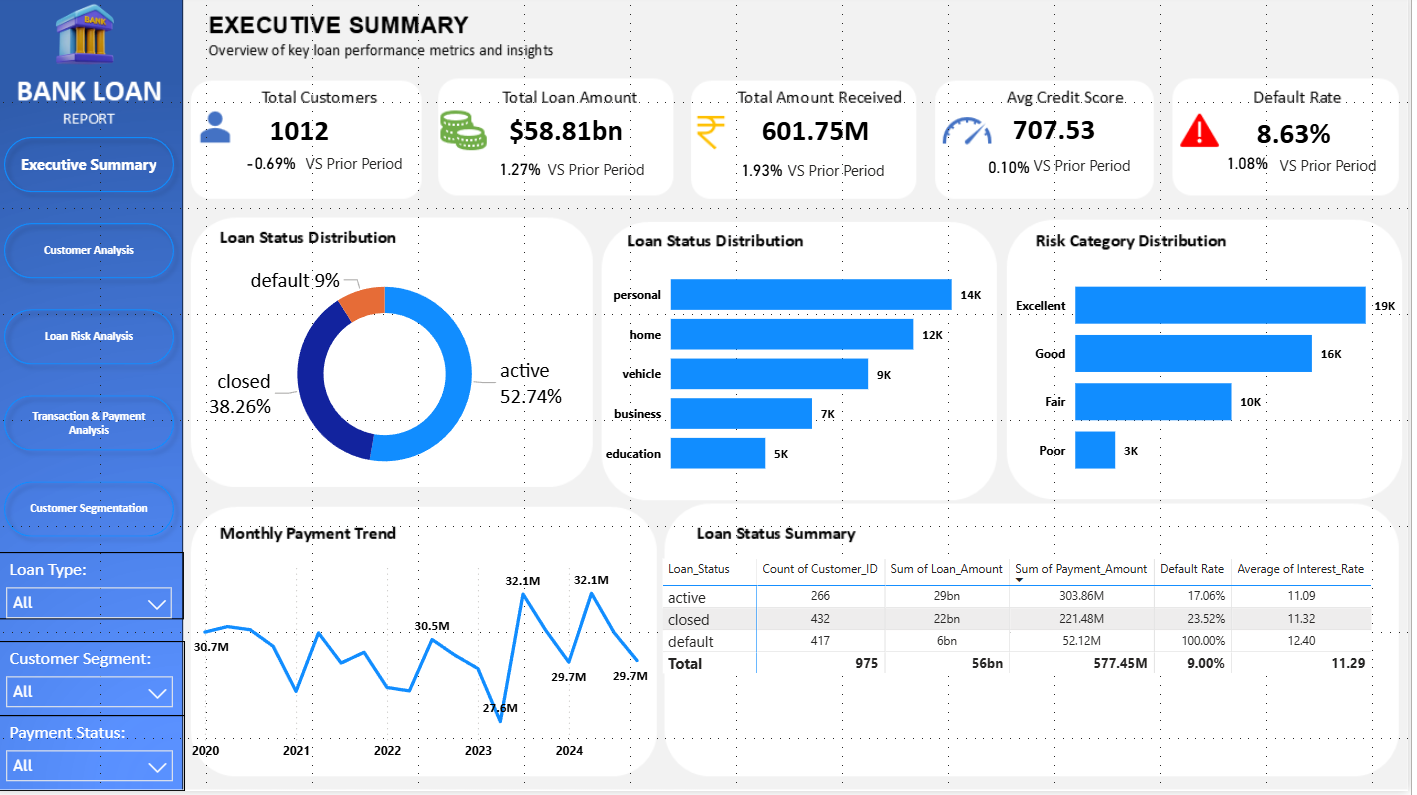

The page's visual inventory and layout, read from the dashboard file:
{"tool":"powerbi","page":{"name":"Executive Summary","canvas":[1280,720],"ordinal":0},"visuals":[{"type":"donutChart","fields":{"Category":["Sheet1.Loan_Status"],"Y":["CountNonNull(Sheet1.Loan_ID)"]},"box":[173.8,232.4,359.7,219.3],"z":0},{"type":"barChart","fields":{"Category":["Final Datasets.Loan_Type"],"Y":["CountNonNull(Final Datasets.Loan_ID)"]},"box":[547.9,229.1,359.5,219.2],"z":1000},{"type":"barChart","fields":{"Category":["Sheet1.Risk_Category"],"Y":["CountNonNull(Sheet1.Customer_ID)"]},"box":[919.2,232.8,361.4,219.2],"z":2000},{"type":"lineChart","fields":{"Y":["Sum(Final Datasets.Payment_Amount)"],"Category":["Date Table.Date.Variation.Date Hierarchy.Year","Date Table.Date.Variation.Date Hierarchy.Quarter"]},"box":[172.8,503.2,427.5,198.1],"z":3000},{"type":"card","title":"Total Customers","fields":{"Values":["Count(Sheet1.Customer_ID)"]},"box":[199.1,94,154.6,53.6],"z":4000},{"type":"card","title":"Total Loan Amount","fields":{"Values":["Sum(Sheet1.Loan_Amount)"]},"box":[420.4,103.1,196,36.4],"z":5000},{"type":"card","title":"Total Amount Received","fields":{"Values":["Sum(Sheet1.Payment_Amount)"]},"box":[654.8,103.1,178.9,35.4],"z":6000},{"type":"card","title":"Avg Credit Score","fields":{"Values":["Avg(Sheet1.Credit_Score)"]},"box":[868,98,184.9,45.5],"z":7000},{"type":"card","title":"Default Rate","fields":{"Values":["Sheet1.Default Rate"]},"box":[1074.2,100,206.1,47.5],"z":8000},{"type":"pivotTable","fields":{"Rows":["Final Datasets.Loan_Status"],"Values":["Count(Final Datasets.Customer_ID)","Sum(Final Datasets.Loan_Amount)","Sum(Final Datasets.Payment_Amount)","Final Datasets.Default Rate","Avg(Final Datasets.Interest_Rate)"]},"box":[600.5,504.5,671.1,197.4],"z":9000},{"type":"pageNavigator","box":[0,118.6,173,384.9],"z":10000},{"type":"image","box":[6.3,0,152.2,68.8],"z":11000},{"type":"slicer","fields":{"Values":["Final Datasets.Loan_Type"]},"box":[0,503.7,172.4,60.9],"z":12000},{"type":"slicer","fields":{"Values":["Final Datasets.Customer_Segment"]},"box":[0,584.2,173,67.9],"z":13000},{"type":"slicer","fields":{"Values":["Final Datasets.Customer_Segment"]},"box":[0,651.2,173,68.8],"z":14000},{"type":"card","fields":{"Values":["Final Datasets.Customer Growth %"]},"box":[177.4,137.7,146.1,30.3],"z":15000},{"type":"textbox","box":[276.9,137.4,119.2,30.3],"z":16000},{"type":"card","fields":{"Values":["Final Datasets.Loan Amount Growth %"]},"box":[433.5,143.5,84.9,30.3],"z":17000},{"type":"textbox","box":[496.2,143.5,120.3,30.3],"z":18000},{"type":"card","fields":{"Values":["Final Datasets.Payment Amount Growth %"]},"box":[662.6,144,64.7,30.3],"z":19000},{"type":"textbox","box":[713.7,144,120,30.3],"z":20000},{"type":"card","fields":{"Values":["Final Datasets.Avg Crdit Score Growth %"]},"box":[893.2,140.9,52.2,24],"z":21000},{"type":"textbox","box":[936,139.8,105.4,30.3],"z":22000},{"type":"card","fields":{"Values":["Final Datasets.Default Rate Growth %"]},"box":[1110.3,139.8,49,27.1],"z":23000},{"type":"textbox","box":[1159.3,139.8,105.4,30.3],"z":24000}]}

Visuals, with their boxes in screenshot pixels (x1, y1, x2, y2), scaled from the page's 1280x720 canvas onto the 1417x795 screenshot:
donutChart - Sheet1.Loan_Status x CountNonNull(Sheet1.Loan_ID): bbox=(192, 257, 591, 499)
barChart - Final Datasets.Loan_Type x CountNonNull(Final Datasets.Loan_ID): bbox=(607, 253, 1005, 495)
barChart - Sheet1.Risk_Category x CountNonNull(Sheet1.Customer_ID): bbox=(1018, 257, 1416, 499)
lineChart - Sum(Final Datasets.Payment_Amount) x Date Table.Date.Variation.Date Hierarchy.Year: bbox=(191, 556, 665, 774)
"Total Customers" card: bbox=(220, 104, 392, 163)
"Total Loan Amount" card: bbox=(465, 114, 682, 154)
"Total Amount Received" card: bbox=(725, 114, 923, 153)
"Avg Credit Score" card: bbox=(961, 108, 1166, 158)
"Default Rate" card: bbox=(1189, 110, 1416, 163)
pivotTable - Final Datasets.Loan_Status x Count(Final Datasets.Customer_ID): bbox=(665, 557, 1408, 775)
pageNavigator: bbox=(0, 131, 192, 556)
image: bbox=(7, 0, 175, 76)
slicer - Final Datasets.Loan_Type: bbox=(0, 556, 191, 623)
slicer - Final Datasets.Customer_Segment: bbox=(0, 645, 192, 720)
slicer - Final Datasets.Customer_Segment: bbox=(0, 719, 192, 794)
card - Final Datasets.Customer Growth %: bbox=(196, 152, 358, 186)
textbox: bbox=(307, 152, 438, 185)
card - Final Datasets.Loan Amount Growth %: bbox=(480, 158, 574, 192)
textbox: bbox=(549, 158, 682, 192)
card - Final Datasets.Payment Amount Growth %: bbox=(734, 159, 805, 192)
textbox: bbox=(790, 159, 923, 192)
card - Final Datasets.Avg Crdit Score Growth %: bbox=(989, 156, 1047, 182)
textbox: bbox=(1036, 154, 1153, 188)
card - Final Datasets.Default Rate Growth %: bbox=(1229, 154, 1283, 184)
textbox: bbox=(1283, 154, 1400, 188)
